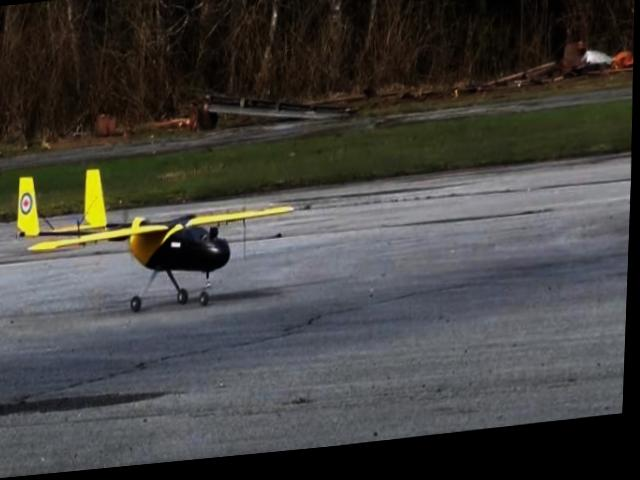iha: (7, 138, 306, 327)
